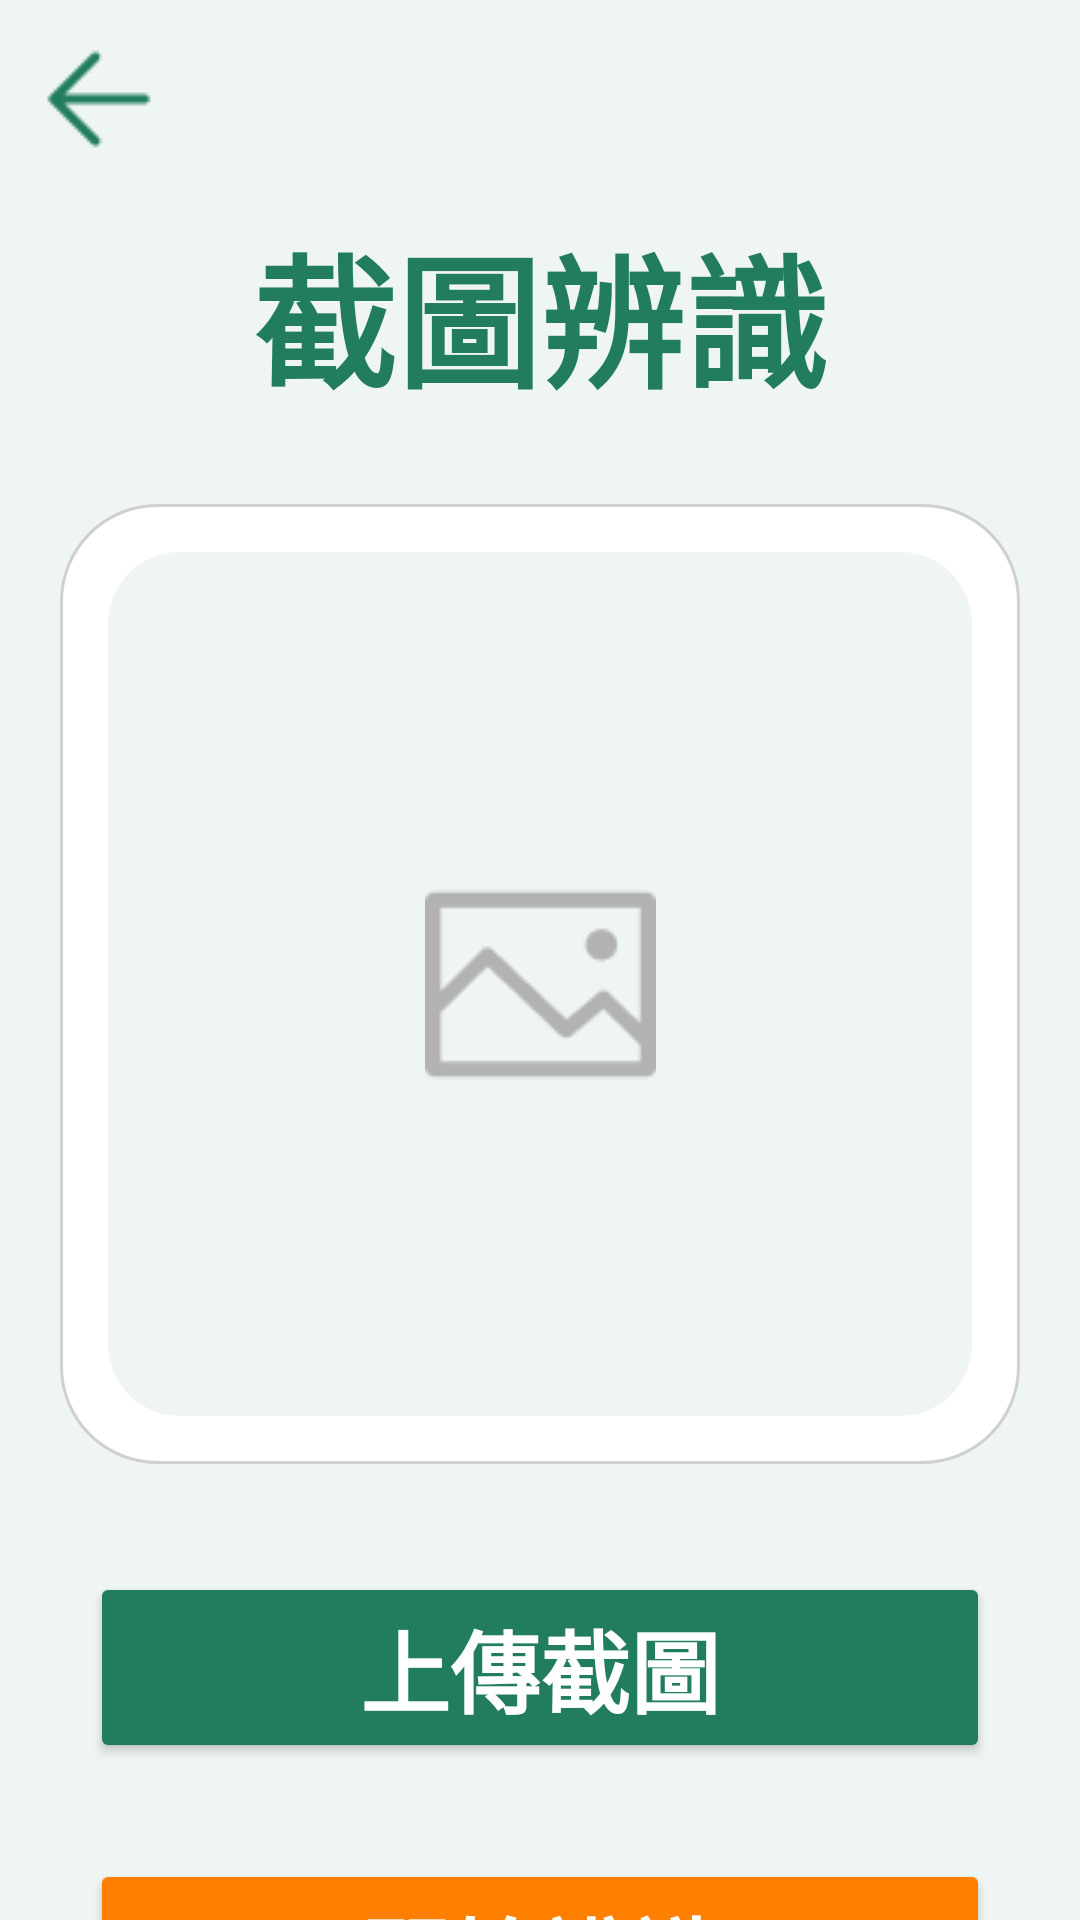

Icons on this 1080×1920 Android screen, each with the point to tap as (x=x, y=y):
返回: (x=99, y=99)
